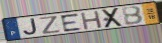B: (121, 5, 145, 26)
E: (59, 12, 84, 33)
H: (80, 10, 104, 31)
J: (22, 18, 39, 37)
X: (101, 7, 125, 29)
Z: (39, 15, 62, 35)
